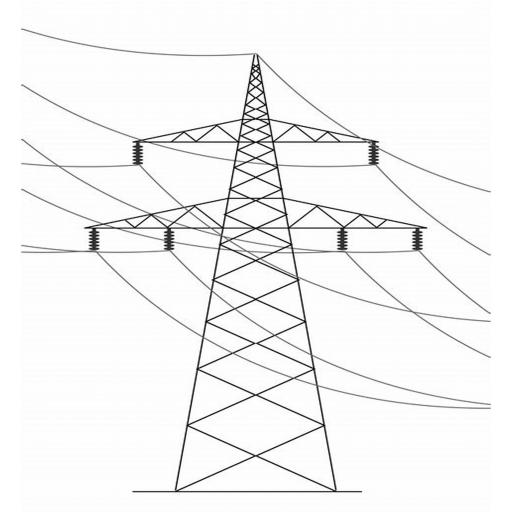ss_2: (82, 54, 429, 494)
